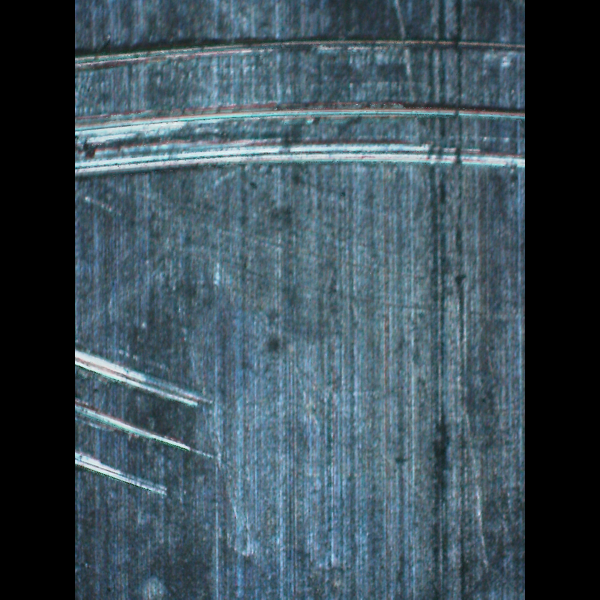d: (77, 29, 525, 192), (75, 329, 227, 528)
